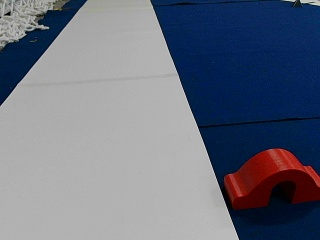bridge: (223, 147, 318, 204)
